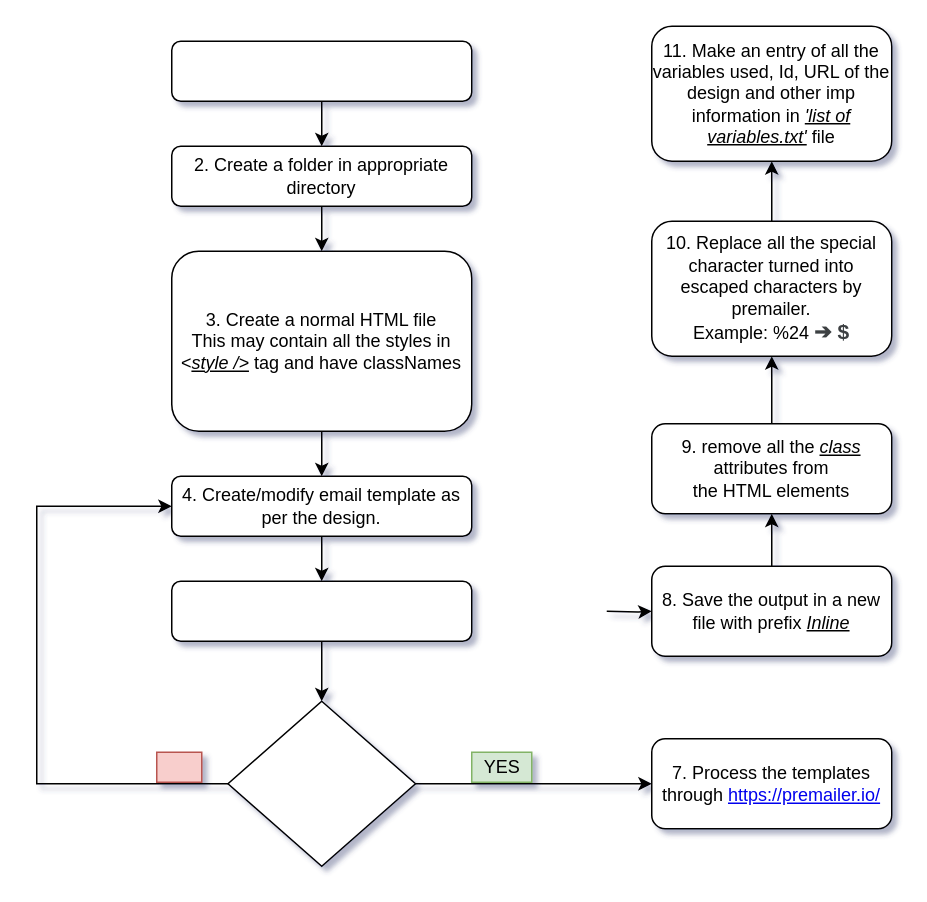
Image size: 927x902. Some labels were removed from this diagram. The shapes that lost their labels are listed below. From the top down, each one's box as (x1, y1, x2, y2) in pixels, then its label:
(170, 40, 472, 101): 1. Get Design From Invision
(170, 580, 472, 641): 5. Test the template on emailonacid.com
(155, 751, 202, 782): NO
(226, 700, 416, 866): 6. Test Passed on all the major clients?
